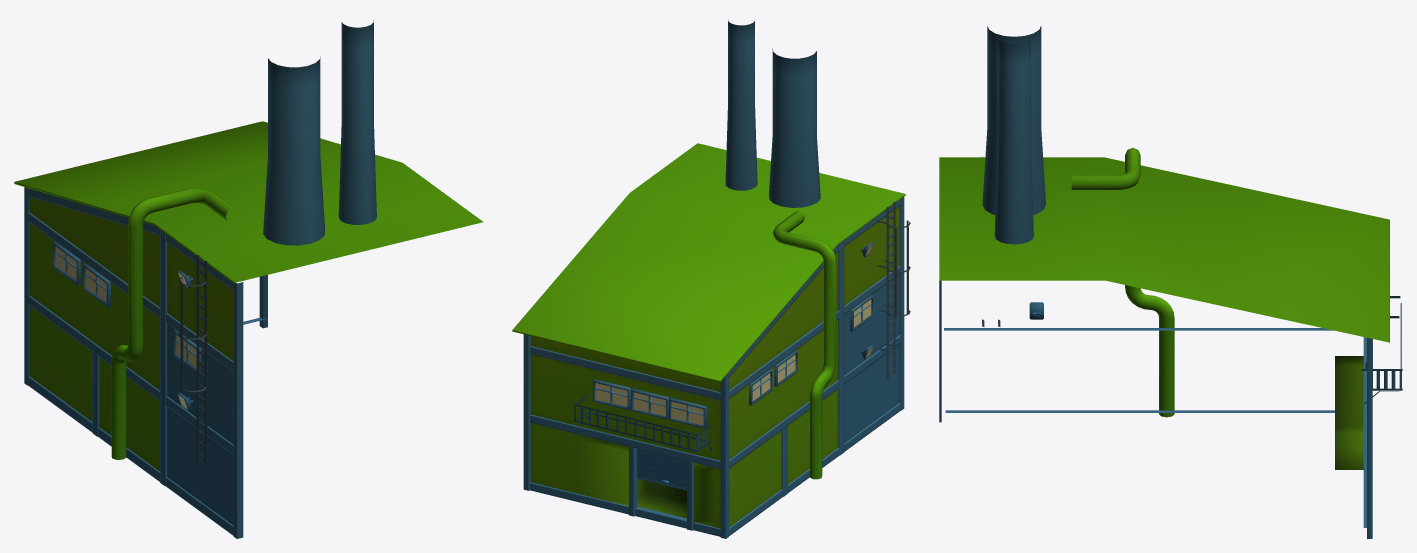
Rendered from Warehouse02Night.glb.
The picture shows the model from 3 angles, left to right: view 1: azimuth 30°, elevation 25°; view 2: azimuth 150°, elevation 25°; view 3: azimuth 270°, elevation 25°; orthographic projection. The views are drawn at different scales.
Parts seen in each view (by area): view 1: Warehouse02Night; view 2: Warehouse02Night; view 3: Warehouse02Night.
Boxes of the visible parts, x1,y1,x2,y2 form: Warehouse02Night: [14, 20, 483, 538]; Warehouse02Night: [512, 20, 910, 538]; Warehouse02Night: [939, 26, 1402, 538].
Bounding box in the file's own units: 20.16 × 31.39 × 28.63.
Materials: 4 (3 with a texture image).
